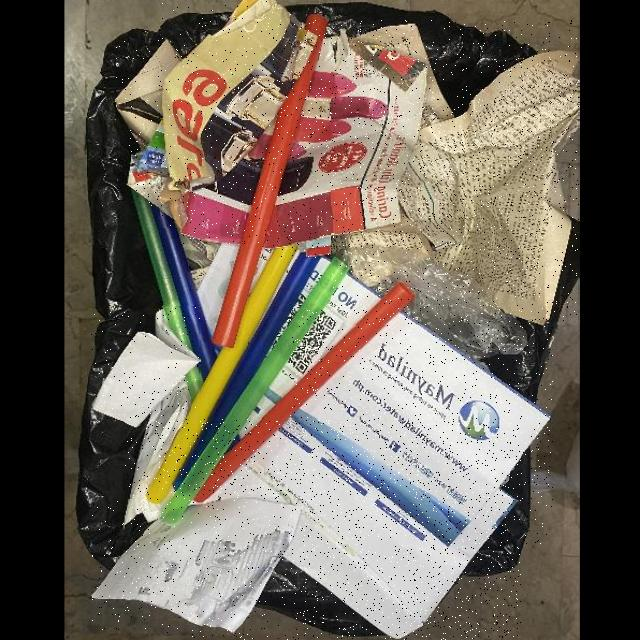paper: (332, 20, 579, 325), (193, 419, 521, 640), (290, 310, 553, 545), (264, 29, 425, 259), (180, 18, 316, 243), (160, 0, 294, 228), (93, 499, 303, 634), (89, 306, 200, 425), (117, 39, 181, 207), (125, 376, 191, 525)
plastic: (339, 243, 529, 357)
